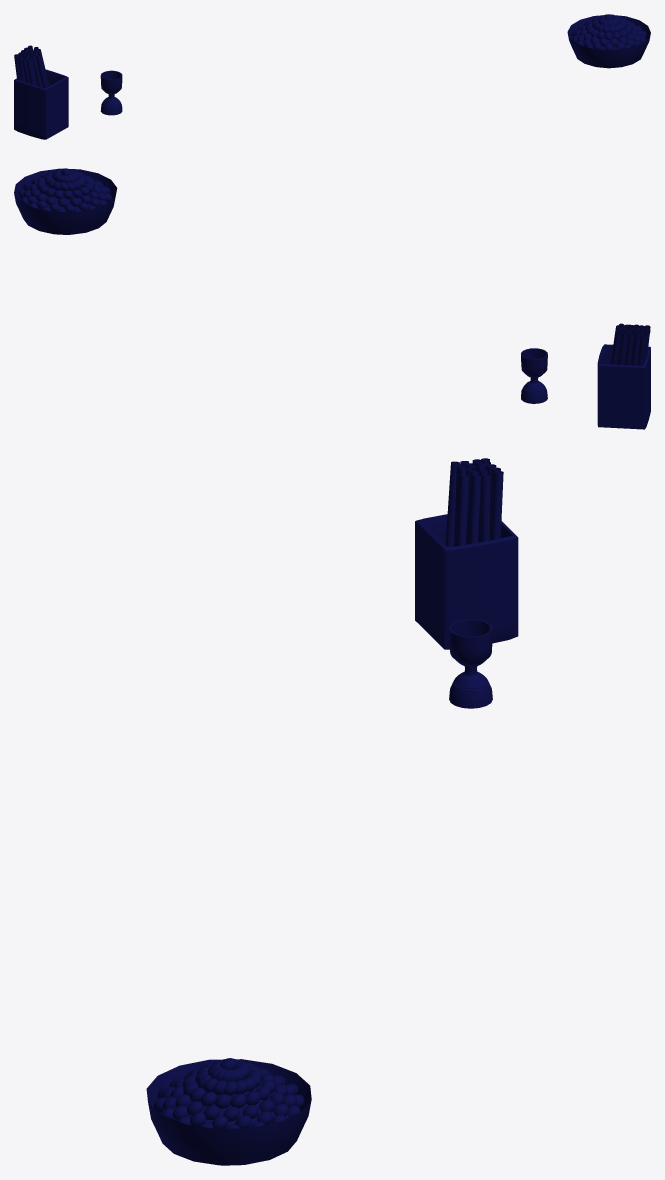
The model's file is Addition.fbx.
The picture shows the model from 3 angles, top to bottom: view 1: azimuth 30°, elevation 25°; view 2: azimuth 150°, elevation 25°; view 3: azimuth 270°, elevation 25°; orthographic projection. The views are drawn at different scales.
Parts seen in each view (by area): view 1: Boul_2, cup, Straw, djigger; view 2: Boul_2, cup, Straw, djigger; view 3: Boul_2, cup, Straw, djigger.
Boxes of the visible parts, left/top/right/bottom form: Boul_2: left=567, top=14, right=650, bottom=68; cup: left=14, top=69, right=68, bottom=139; Straw: left=14, top=45, right=49, bottom=88; djigger: left=100, top=70, right=122, bottom=115; Boul_2: left=14, top=168, right=117, bottom=234; cup: left=597, top=344, right=650, bottom=429; Straw: left=610, top=323, right=650, bottom=366; djigger: left=521, top=348, right=547, bottom=403; Boul_2: left=146, top=1058, right=311, bottom=1165; cup: left=415, top=514, right=518, bottom=649; Straw: left=445, top=458, right=503, bottom=546; djigger: left=449, top=619, right=492, bottom=708.
Bounding box in the file's own units: 233 × 34.51 × 66.39.
